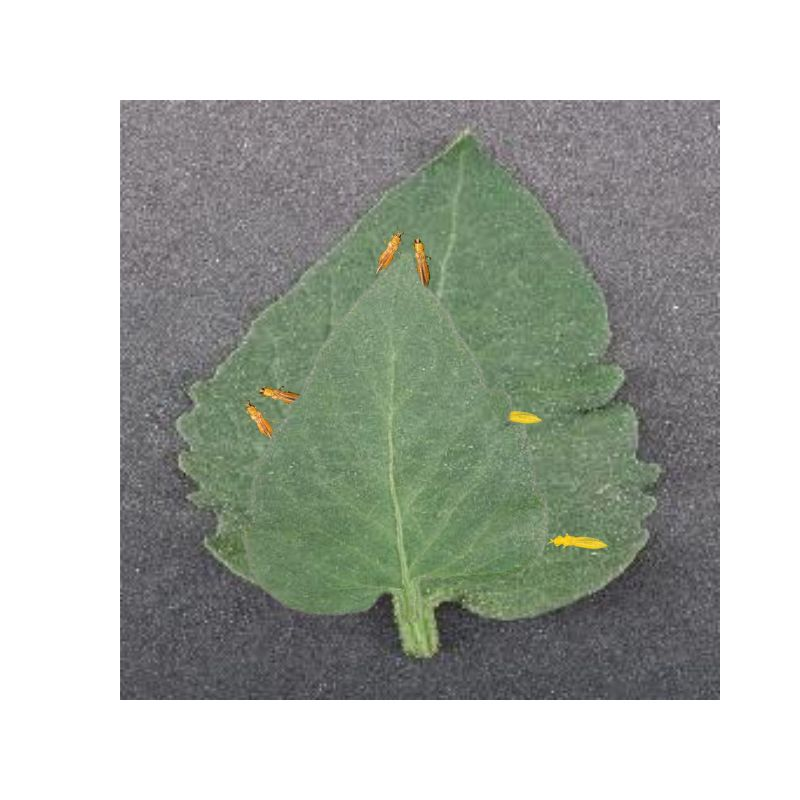thrips: (373, 225, 403, 274), (409, 235, 436, 288), (244, 400, 277, 441), (548, 532, 609, 553), (256, 382, 301, 406), (507, 410, 547, 427)
